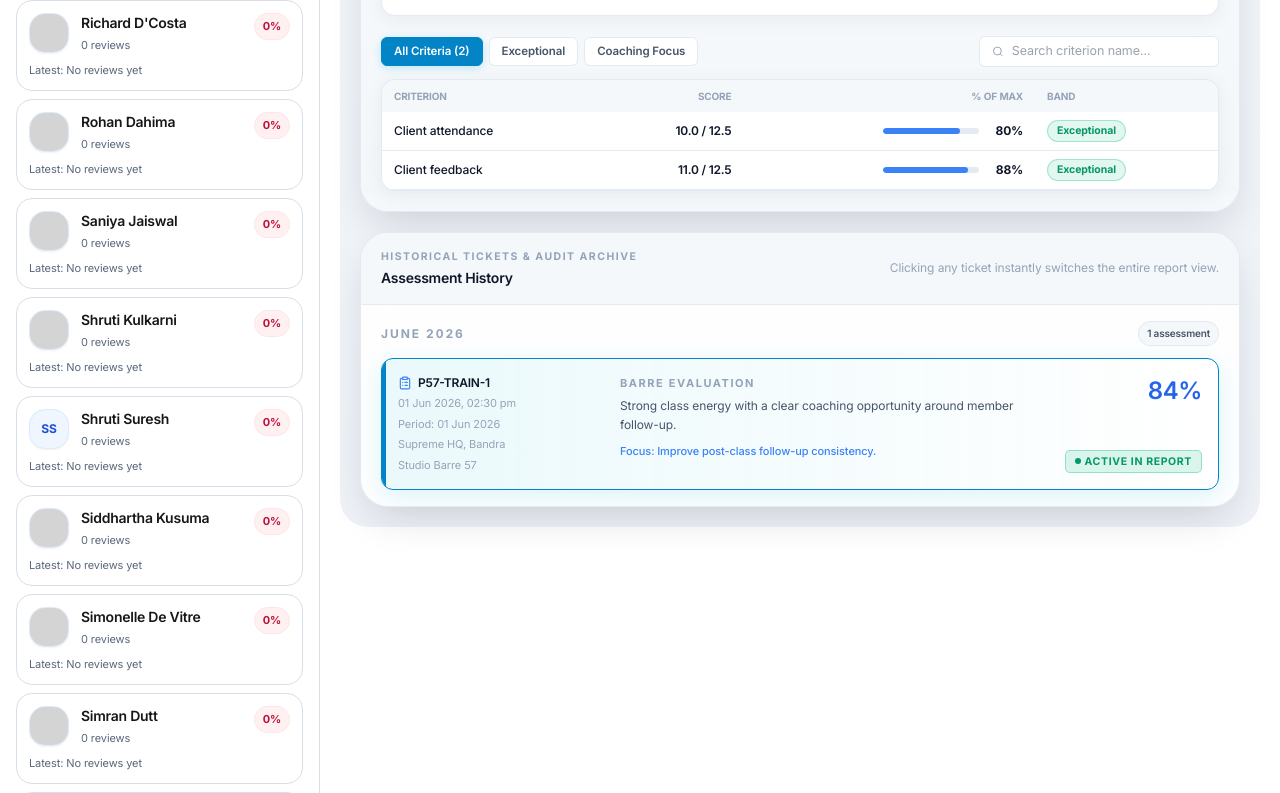
TrainerProfilesPanel › opens a clicked previous ticket in the ticket preview report section and scrolls it into view
The width and height of the screenshot is (1280, 793).
(page scrolled)
Click the button "P57-TRAIN-1".
click(454, 383)  # box [381,358,1219,490]
(page scrolled)
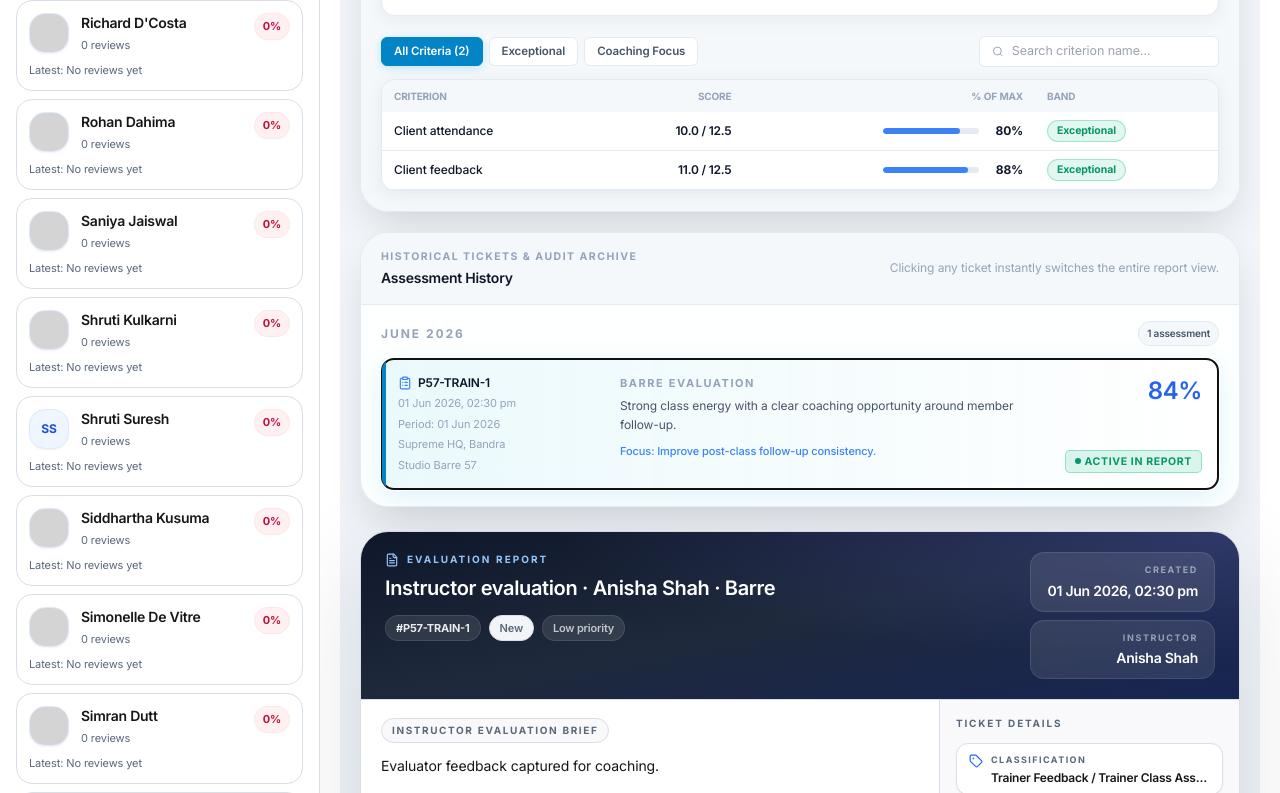
Expected: the text "P57-TRAIN-1" is shown, [398,375,490,390]
Now the text "Evaluation Report" is shown, box [385,553,548,567]
Now the heading "Instructor evaluation · Anisha Shah · Barre" is shown, box [385,575,775,603]
